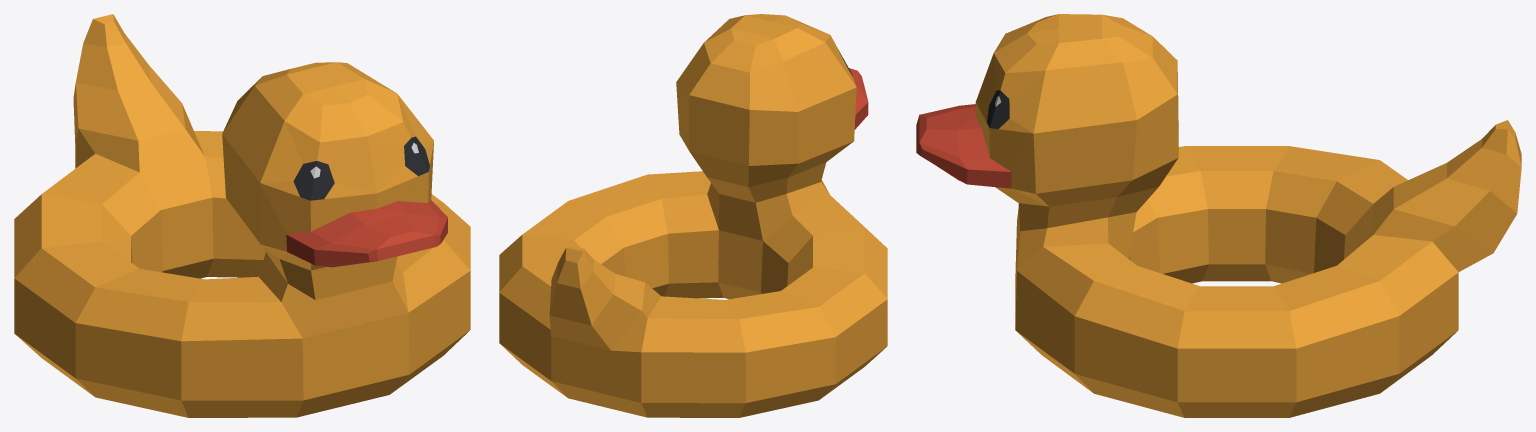
The model's file is NoveltyFloat.obj.
The picture shows the model from 3 angles, left to right: view 1: azimuth 30°, elevation 25°; view 2: azimuth 150°, elevation 25°; view 3: azimuth 270°, elevation 25°; orthographic projection. The views are drawn at different scales.
Visible parts, largest first — view 1: NoveltyFloat; view 2: NoveltyFloat; view 3: NoveltyFloat.
Part boxes in pixels (x1=…): NoveltyFloat: x1=14, y1=14, x2=470, y2=417; NoveltyFloat: x1=499, y1=14, x2=887, y2=417; NoveltyFloat: x1=916, y1=14, x2=1521, y2=417.
Size of the model in its own units: 1.1 by 0.8441 by 1.5.
1 material, 1 textured.
